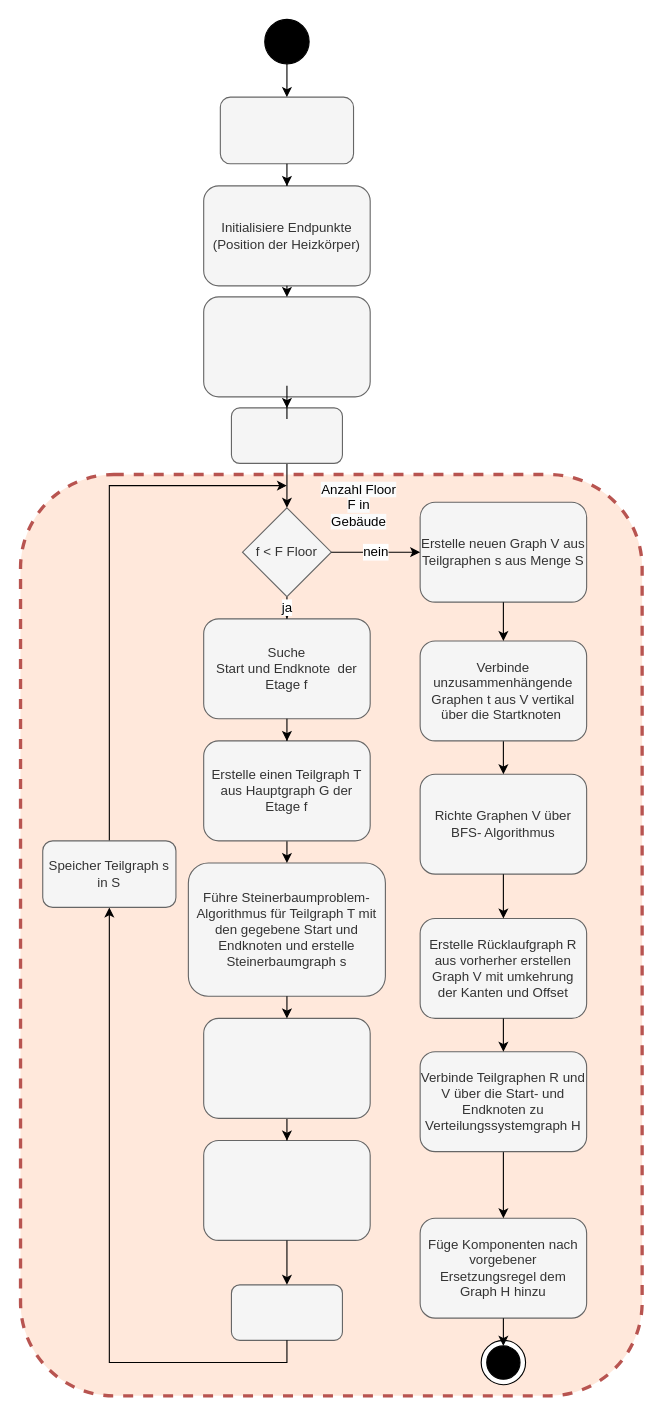
Some shapes in this 663 by 1416 pixel diagram are drawn without their labels. The shapes that lost their labels are listed below. From the top down, each one's centre as x and y in pixels, then its label:
the point at 286,130: Lade Gebäudegraph G
the point at 286,346: Initalisiere Startknoten und verbinden mit Graph G über Snapping Algorithmus
the point at 286,435: f = 0
the point at 286,1067: Entferne überflüssige Knoten
the point at 286,1189: Richte Graph s von Start- zu Endknoten mit dem BFS-Algorithmus
the point at 286,1312: f = f +1
